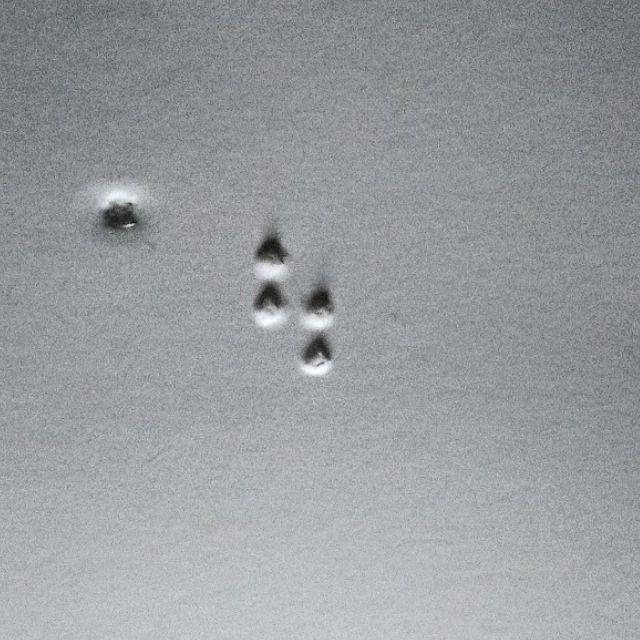tu: (253, 237, 334, 378)
